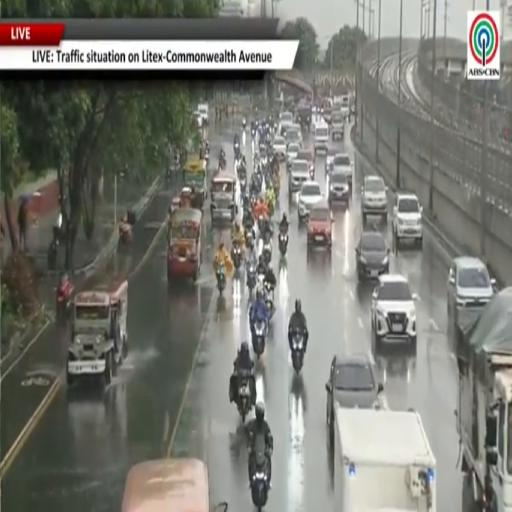car: (326, 355, 383, 439), (447, 256, 495, 332), (372, 274, 417, 350), (356, 231, 390, 281), (393, 192, 422, 249), (307, 200, 333, 250), (361, 175, 387, 225), (298, 181, 322, 221), (288, 159, 310, 196), (331, 153, 353, 186), (329, 173, 350, 207), (313, 122, 329, 154), (297, 149, 314, 179), (331, 111, 344, 140), (279, 111, 293, 137), (325, 147, 338, 174), (285, 127, 302, 147), (287, 143, 300, 169), (273, 137, 286, 161), (291, 123, 303, 146), (198, 104, 209, 126), (324, 106, 332, 124)
jeepney: (66, 281, 127, 385), (122, 458, 210, 511), (167, 208, 202, 281), (211, 171, 236, 222), (185, 159, 207, 209)
motorcycle: (251, 437, 270, 511), (56, 276, 73, 321), (237, 376, 252, 422), (252, 320, 267, 359), (291, 331, 304, 374), (47, 237, 59, 270), (265, 283, 275, 317), (262, 234, 272, 266), (231, 240, 242, 269), (258, 215, 270, 241), (216, 263, 226, 294), (247, 263, 256, 294), (279, 230, 288, 257), (246, 228, 255, 251), (239, 173, 247, 195), (234, 141, 240, 159), (219, 155, 226, 169), (261, 155, 267, 168), (242, 117, 247, 130), (252, 130, 255, 139)
truck: (456, 287, 511, 511), (333, 405, 436, 511)
